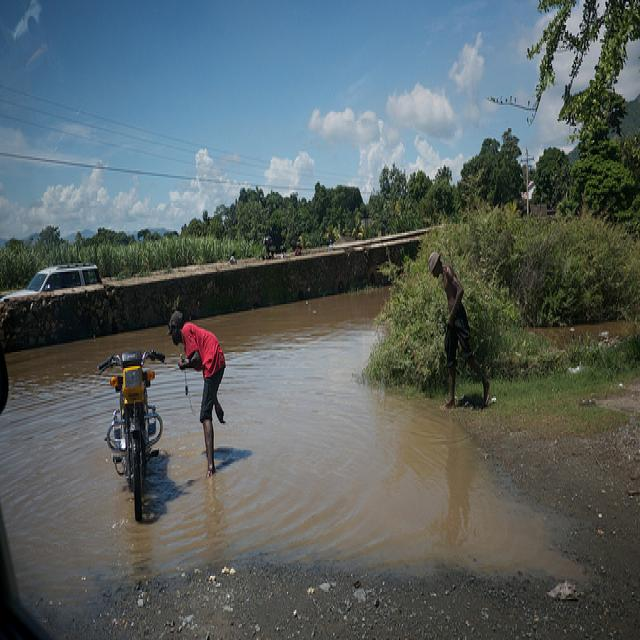motor: (99, 353, 165, 524)
